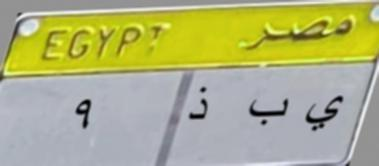9: (68, 94, 96, 136)
baa: (246, 91, 292, 130)
yaa: (301, 90, 348, 136)
zaal: (184, 84, 214, 128)
